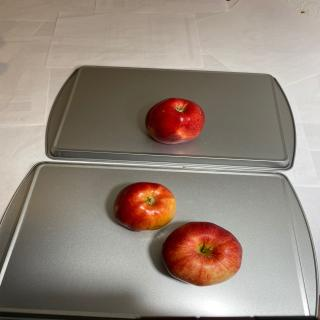Apple: (162, 221, 242, 287), (113, 182, 176, 232), (145, 98, 205, 144)
